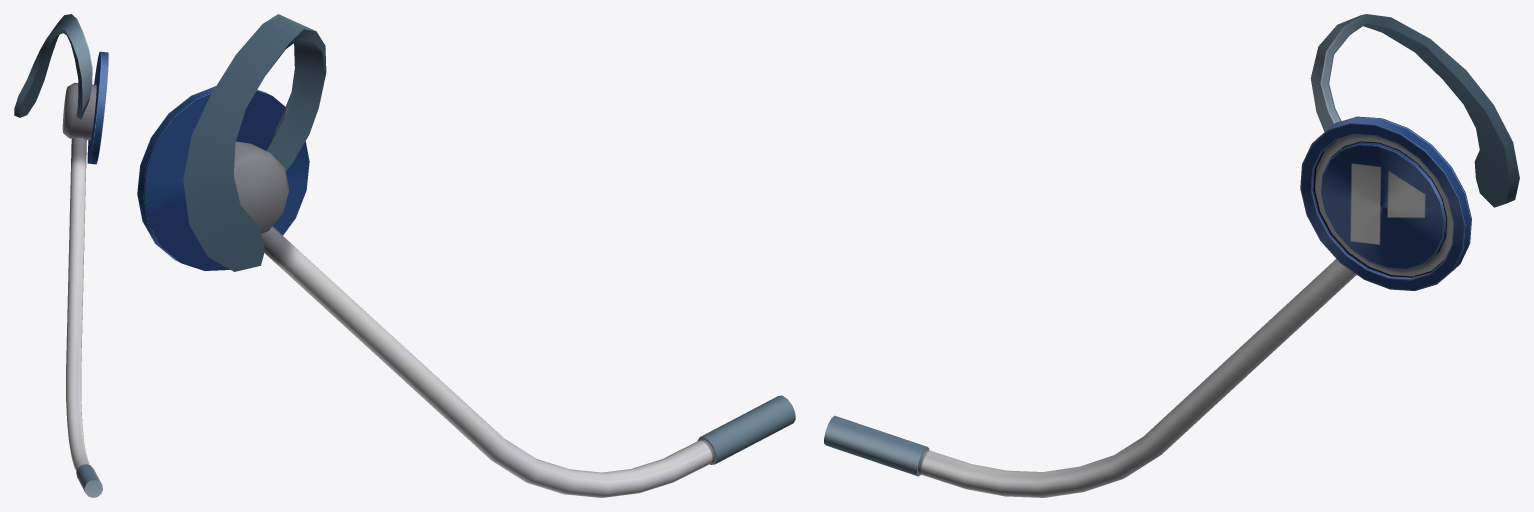
Rendered from EntrainingIntercomHiyori.fbx.
The picture shows the model from 3 angles, left to right: view 1: azimuth 30°, elevation 25°; view 2: azimuth 150°, elevation 25°; view 3: azimuth 270°, elevation 25°; orthographic projection. The views are drawn at different scales.
Parts seen in each view (by area): view 1: EntrainingIntercomHiyori; view 2: EntrainingIntercomHiyori; view 3: EntrainingIntercomHiyori.
Boxes of the visible parts, <box> form: EntrainingIntercomHiyori: <box>14,14,108,497</box>; EntrainingIntercomHiyori: <box>137,14,795,497</box>; EntrainingIntercomHiyori: <box>824,14,1519,497</box>.
Size of the model in its own units: 0.0461 by 0.0726 by 0.0807.
1 material, 1 textured.
